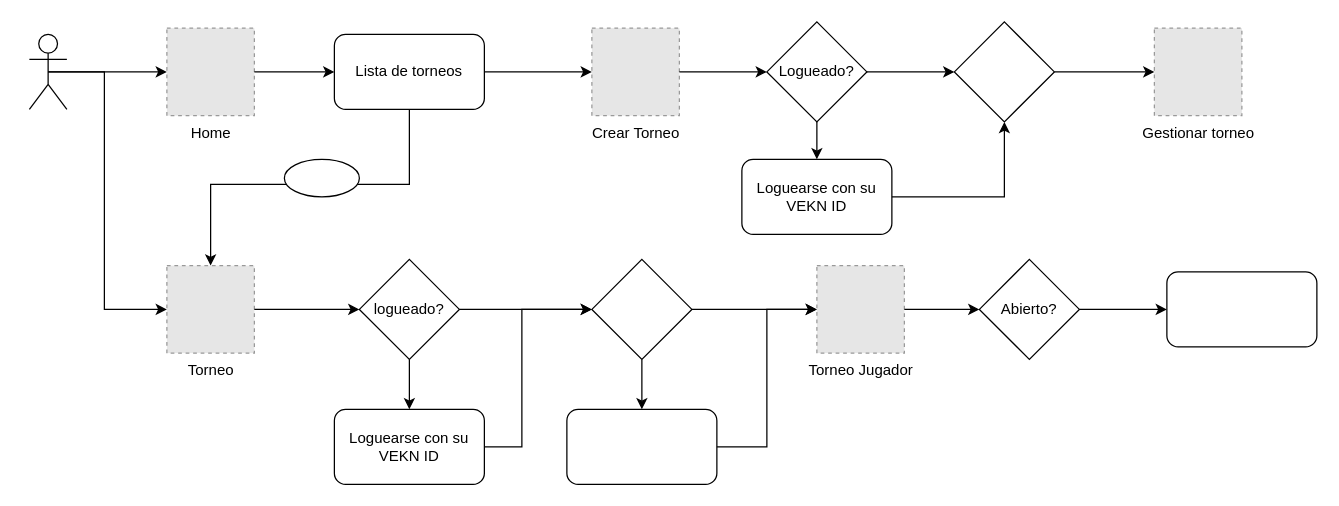
Some shapes in this 1339 by 506 pixel diagram are drawn without their labels. Grey dashed boxes stand in for pictures. Each missing label, with the centre of its shape:
"ID" goes at pixel 321 177.
"Inscribirse al torneo" goes at pixel 641 446.
"Inscrito?" goes at pixel 641 308.
"Juez?" goes at pixel 1003 71.
"Jugador" goes at pixel 47 71.
"Mesa que le toca" goes at pixel 1241 309.
